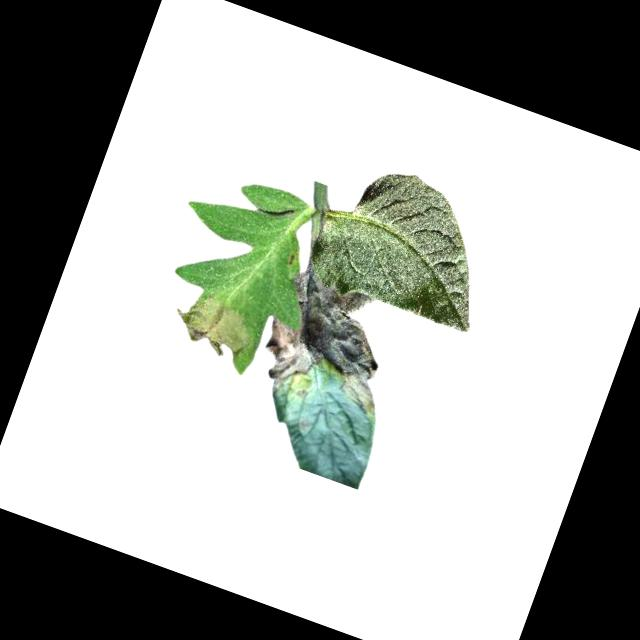Late_blight: (252, 267, 413, 429), (162, 281, 262, 367)
healthy: (298, 149, 515, 340)
